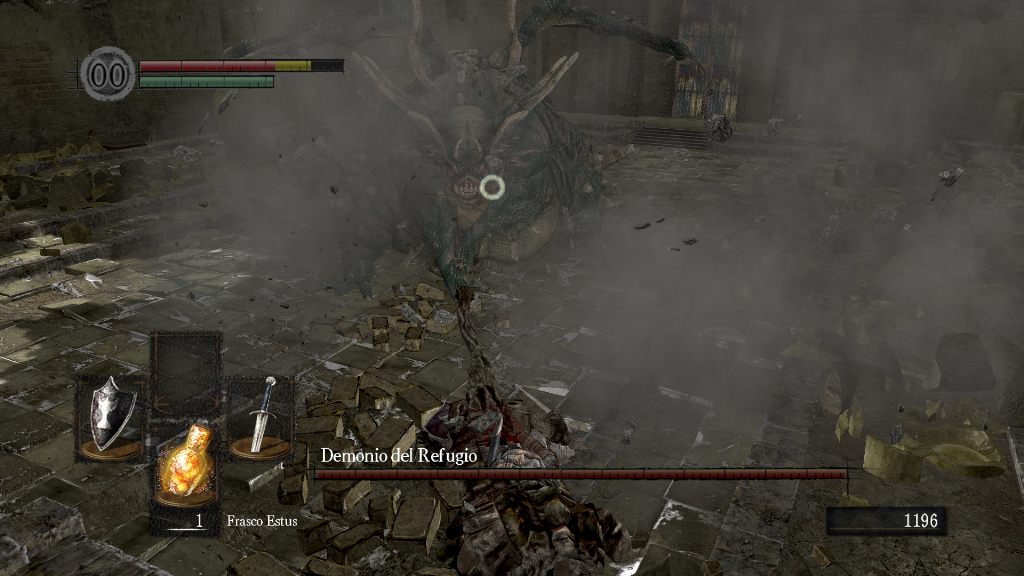asylumDemon: (208, 1, 713, 300)
bossHP: (314, 469, 847, 479)
health: (138, 58, 343, 71)
humanity: (80, 45, 136, 102)
souls: (825, 506, 945, 536)
stamina: (138, 74, 274, 88)
